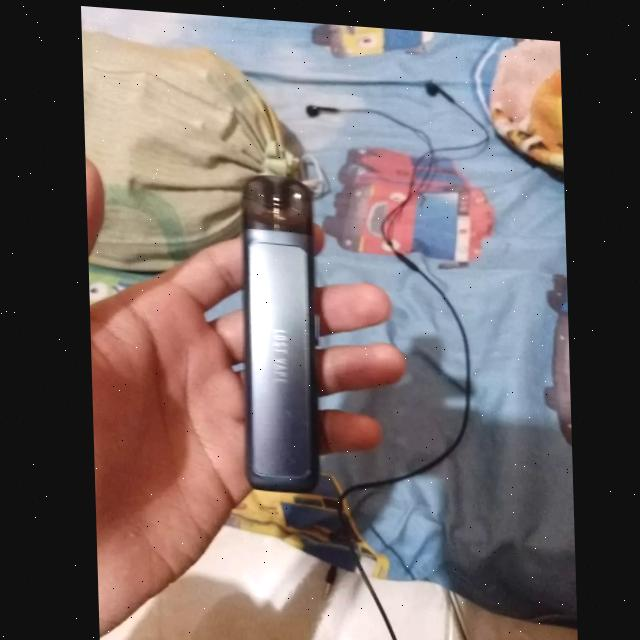vape: (236, 168, 319, 489)
